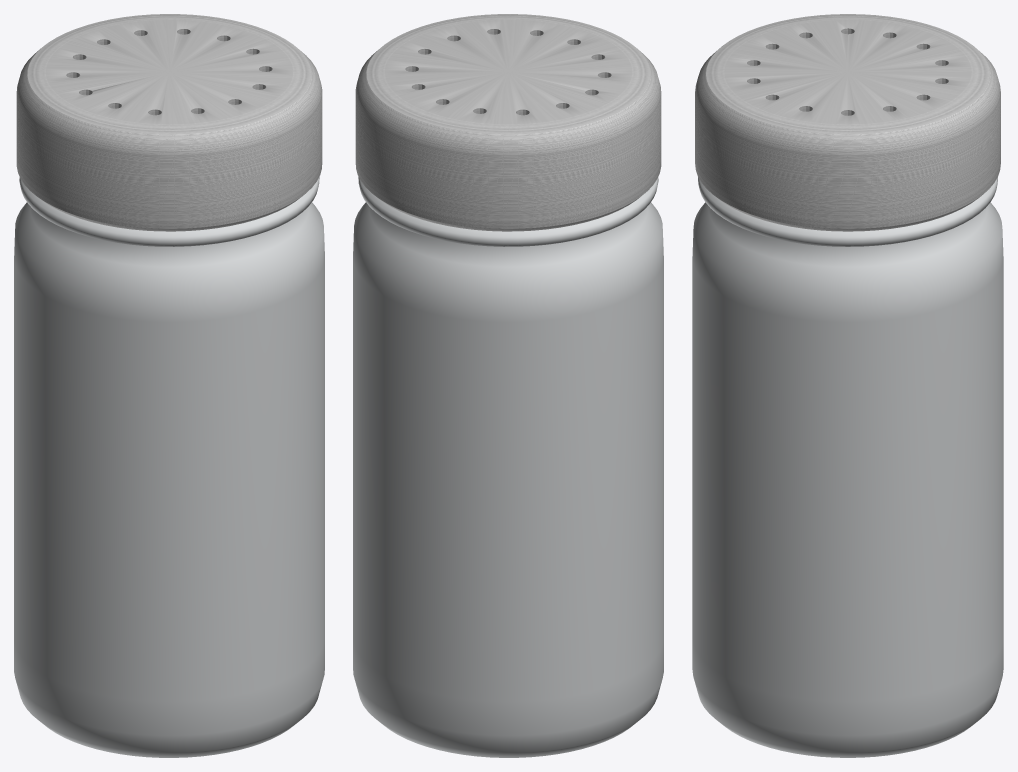
File: SaltShaker.fbx
The picture shows the model from 3 angles, left to right: view 1: azimuth 30°, elevation 25°; view 2: azimuth 150°, elevation 25°; view 3: azimuth 270°, elevation 25°; orthographic projection.
Visible parts, largest first — view 1: GlassBody, MetalCap, GlassNeckRing; view 2: GlassBody, MetalCap, GlassNeckRing; view 3: GlassBody, MetalCap, GlassNeckRing.
Part boxes in pixels (x1,y1,x2,y2): GlassBody: (14, 202, 324, 757); MetalCap: (16, 14, 322, 231); GlassNeckRing: (19, 176, 319, 246); GlassBody: (353, 202, 663, 757); MetalCap: (355, 14, 661, 231); GlassNeckRing: (358, 176, 658, 246); GlassBody: (692, 202, 1003, 757); MetalCap: (695, 14, 1000, 231); GlassNeckRing: (698, 177, 997, 246).
Size of the model in its own units: 5.8 by 13 by 5.8.
Materials: 4 (2 with a texture image).
